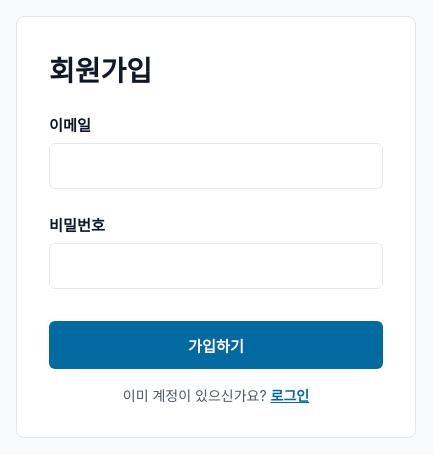
Test: SignupPage › 가입 성공 시 확인 이메일 안내와 로그인 링크를 보여준다
This screenshot has width=433, height=455.
Type "a@b.com" into the field labelled "이메일" at (216, 166), box [49,143,383,189]
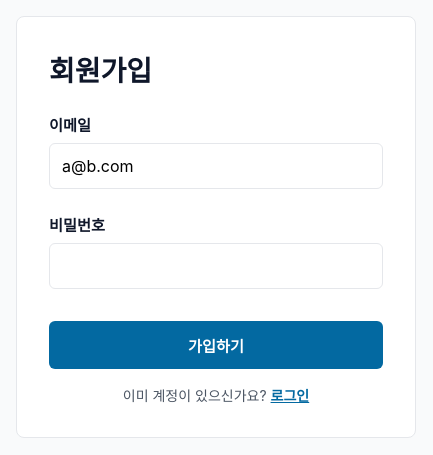
Type "password123" into the password field labelled "비밀번호" at (216, 266), box [49,243,383,289]
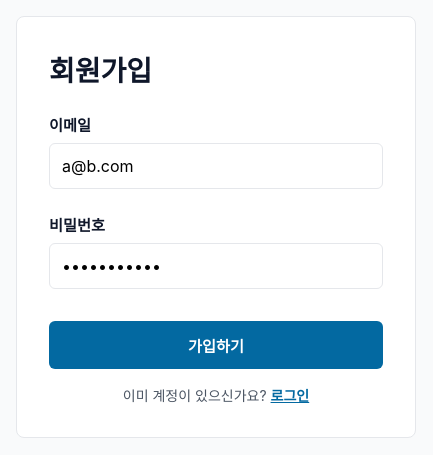
Click the button "가입하기" at (216, 345), box [49,321,383,369]
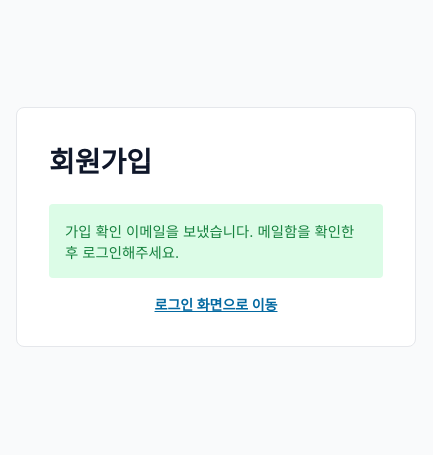
Now the text "가입 확인 이메일을 보냈습니다. 메일함을 확인한 후 로그인해주세요." is shown, box [49,204,383,278]
Now the link "로그인 화면으로 이동" is shown, box [154,296,278,313]
